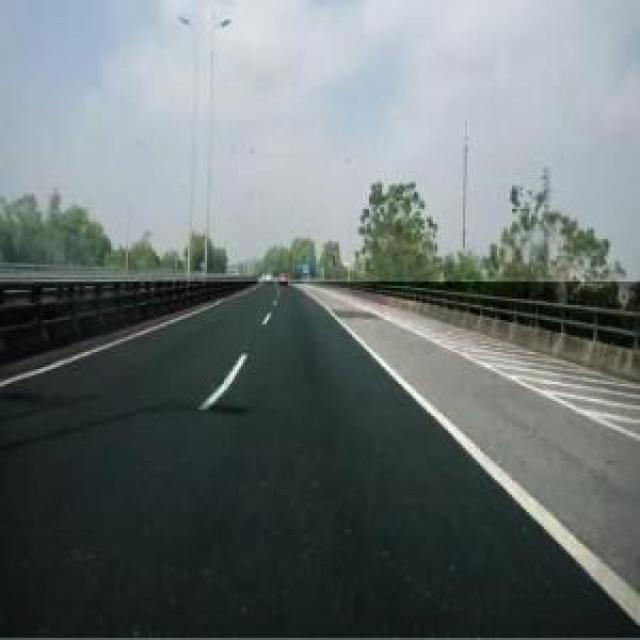clear-road: (0, 282, 640, 640)
